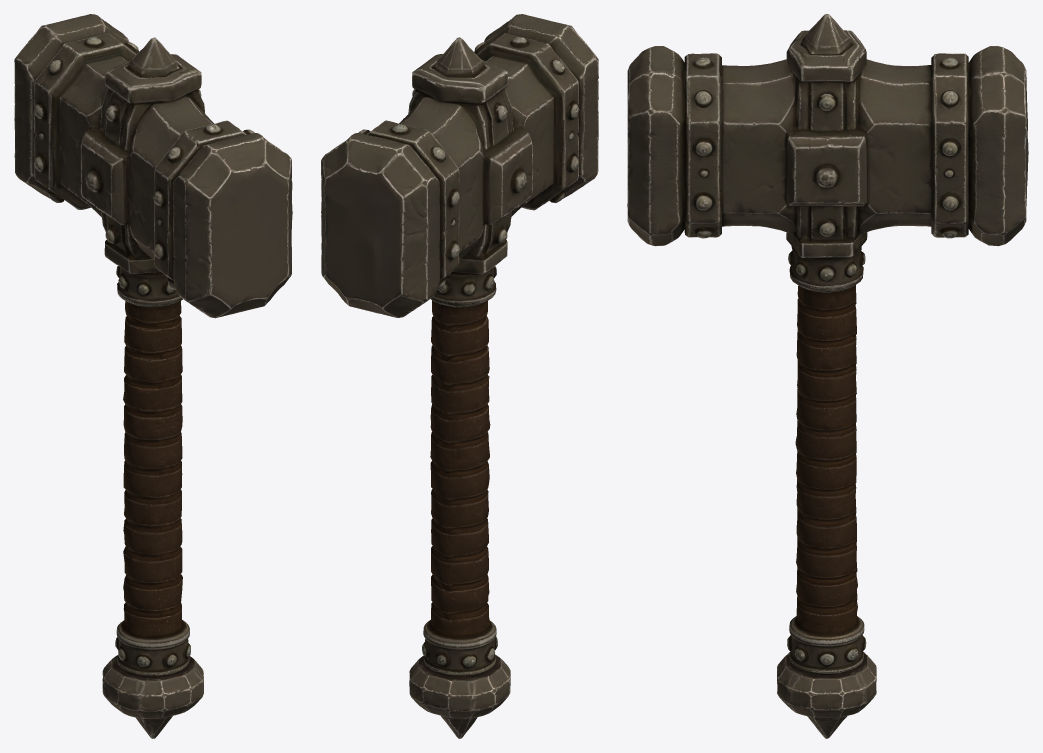
Rendered from Hammer.fbx.
The picture shows the model from 3 angles, left to right: view 1: azimuth 30°, elevation 25°; view 2: azimuth 150°, elevation 25°; view 3: azimuth 270°, elevation 25°; orthographic projection. The views are drawn at different scales.
Parts seen in each view (by area): view 1: hammer; view 2: hammer; view 3: hammer.
Boxes of the visible parts, x1,y1,x2,y2 form: hammer: [14, 14, 292, 738]; hammer: [321, 14, 598, 738]; hammer: [627, 14, 1028, 738].
Size of the model in its own units: 19.07 by 97.88 by 49.12.
